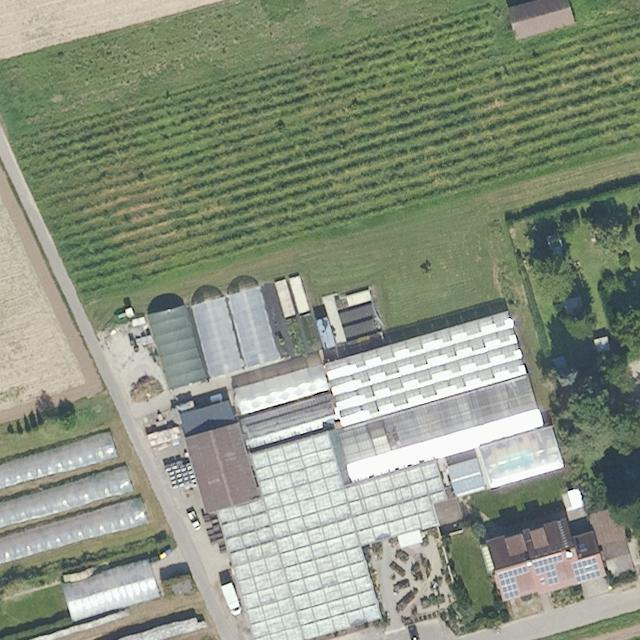PV: (497, 564, 530, 601), (531, 553, 564, 585), (570, 556, 602, 583)
